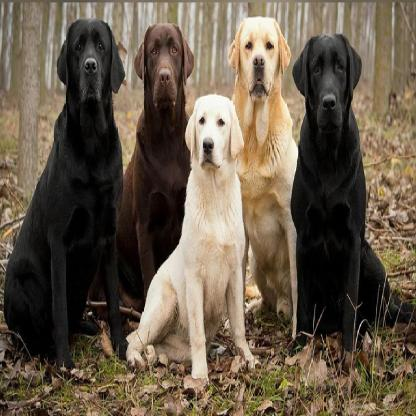dog: (5, 19, 123, 365), (125, 90, 255, 376), (288, 39, 406, 333), (227, 19, 303, 342), (123, 18, 194, 314)
